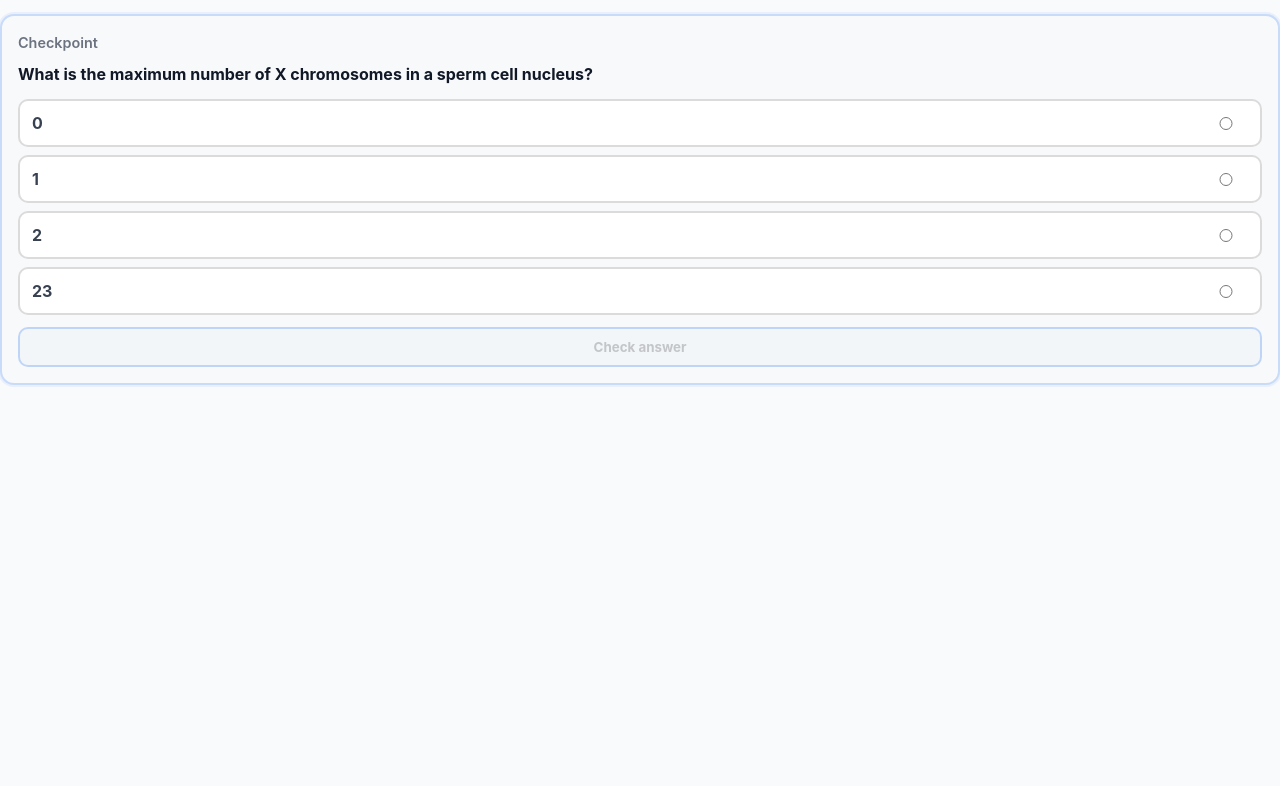
Test: LessonCheckpoint MCQ feedback › shows wrong-answer feedback for an incorrect MCQ selection
The width and height of the screenshot is (1280, 786).
Click the button "23".
click(42, 291)  # box [18,267,1262,315]
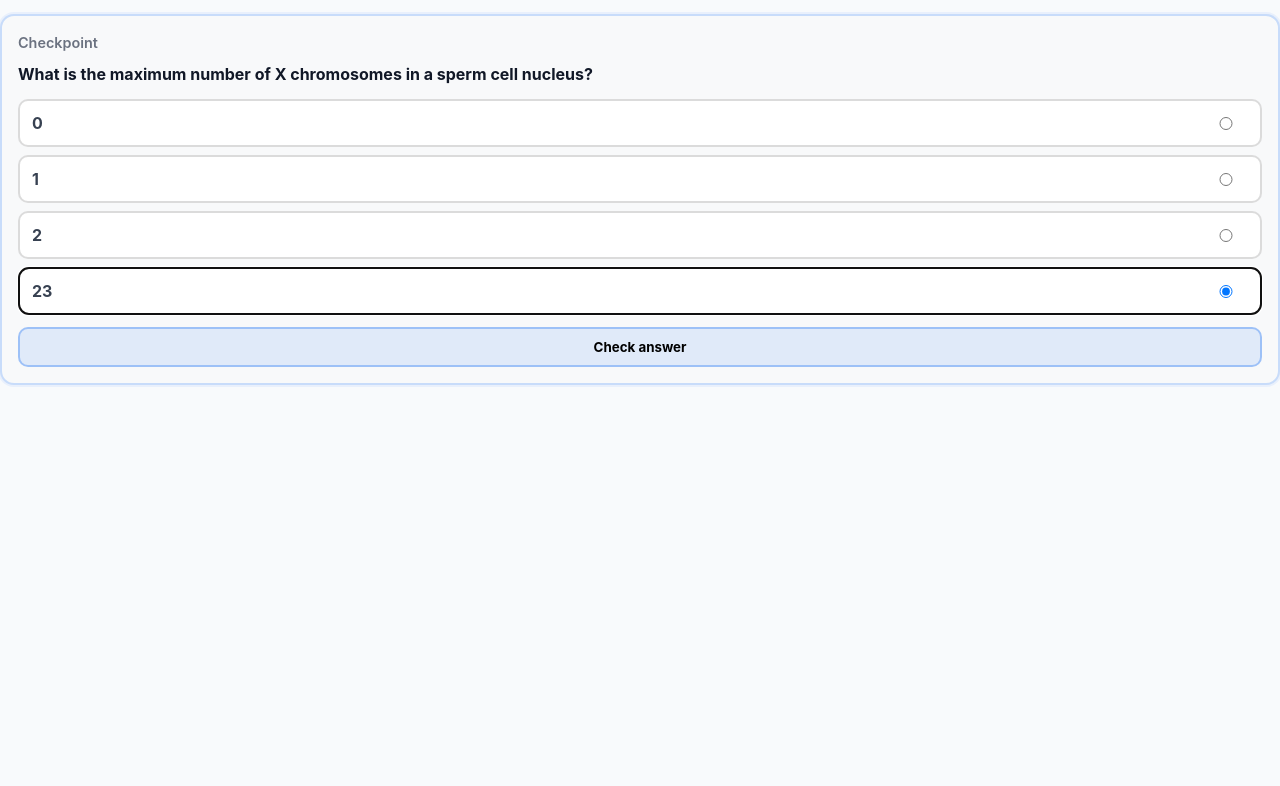
Click the button "Check answer".
click(640, 347)  # box [18,327,1262,367]
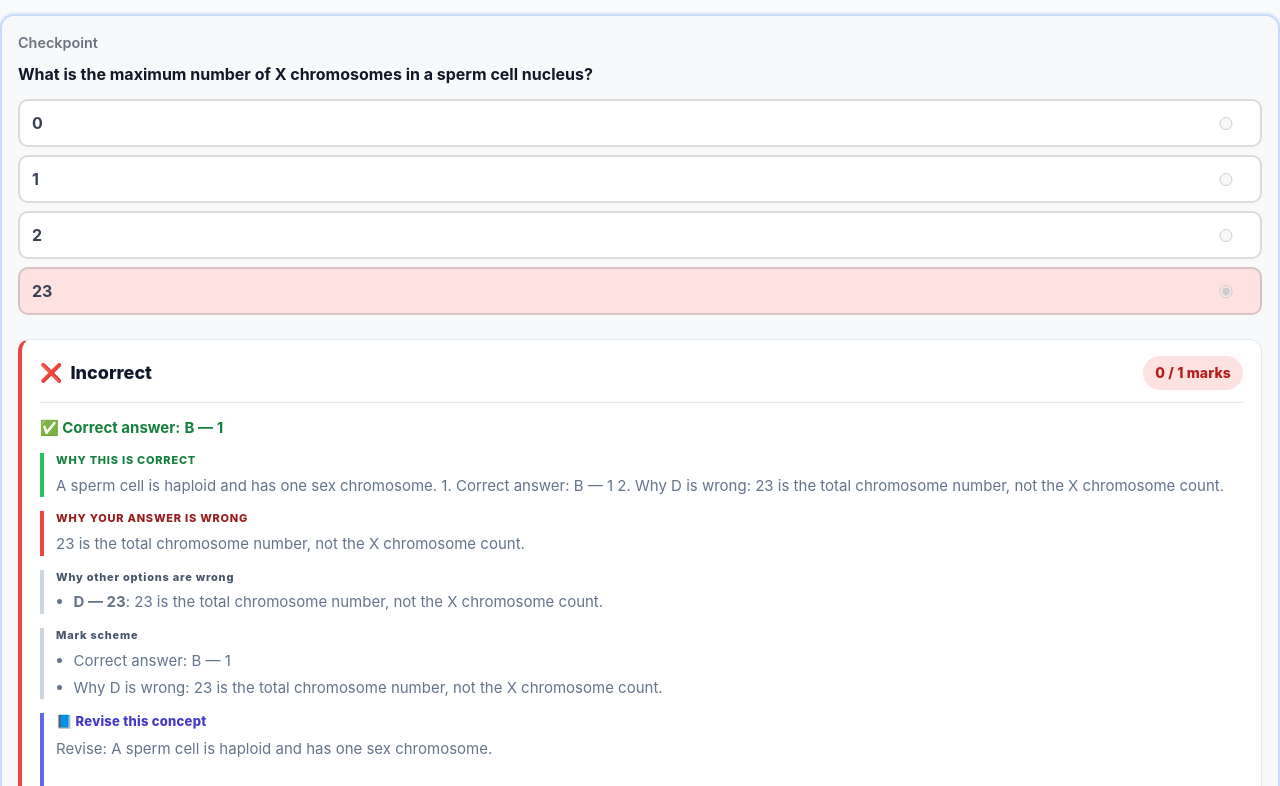
Expected: the text with test id "answer-feedback-score-badge" reads "0 / 1 marks", [1143,356,1243,390]
Expected: the text "Why your answer is wrong" is shown, [56,512,248,526]
Expected: the text "total chromosome number" is shown, [56,476,1224,495]
